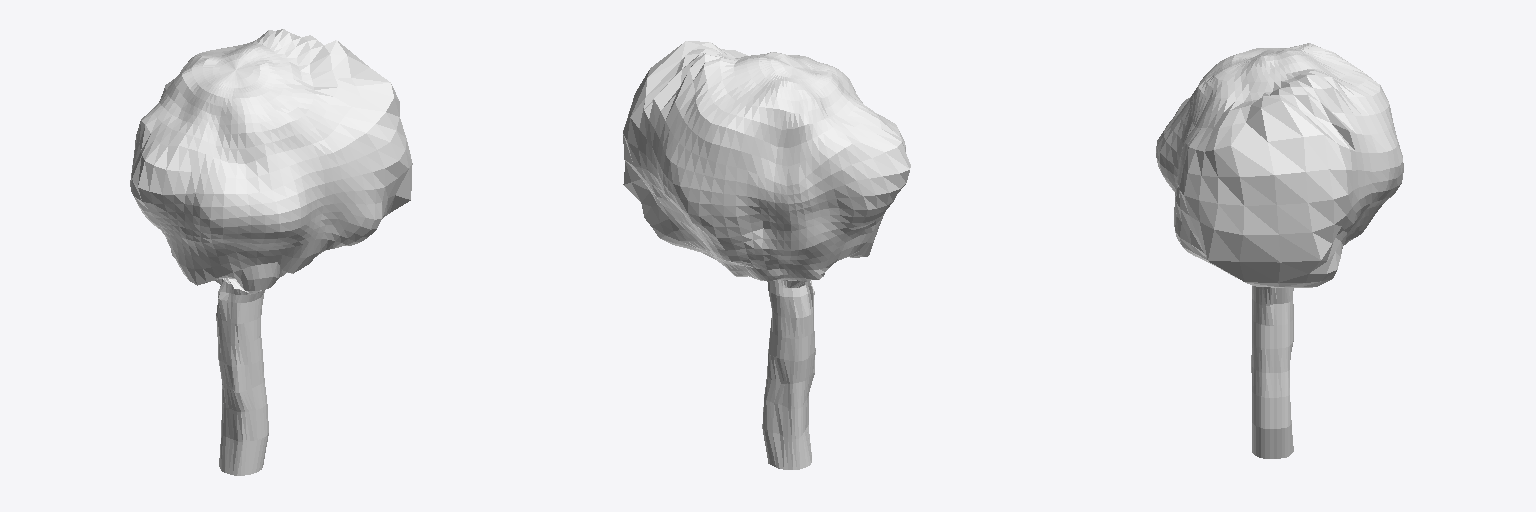
Rendered from tree.obj.
The picture shows the model from 3 angles: view 1: azimuth 30°, elevation 25°; view 2: azimuth 150°, elevation 25°; view 3: azimuth 270°, elevation 25°; orthographic projection.
Parts seen in each view (by area): view 1: Cube_Cube.001; view 2: Cube_Cube.001; view 3: Cube_Cube.001.
Part boxes in pixels (bbox=[...]): Cube_Cube.001: bbox=[130, 29, 412, 475]; Cube_Cube.001: bbox=[623, 41, 910, 469]; Cube_Cube.001: bbox=[1156, 43, 1403, 458].
Size of the model in its own units: 12.46 by 18.6 by 10.28.